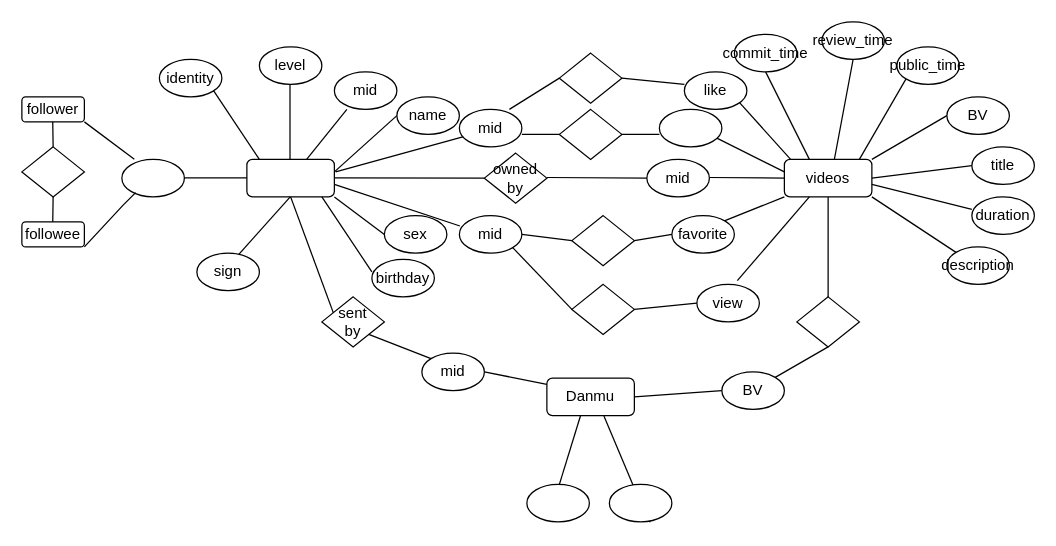
Some shapes in this 1056 by 546 pixel diagram are drawn without their labels. Each missing label, with the centre of its shape:
"belongs to" goes at pixel 827 321.
"coin" goes at pixel 690 127.
"coined" goes at pixel 590 133.
"content" goes at pixel 640 502.
"followling" goes at pixel 152 177.
"follows" goes at pixel 52 171.
"likes" goes at pixel 590 77.
"prefer" goes at pixel 602 240.
"time" goes at pixel 557 502.
"user" goes at pixel 290 177.
"viewed" goes at pixel 602 308.
